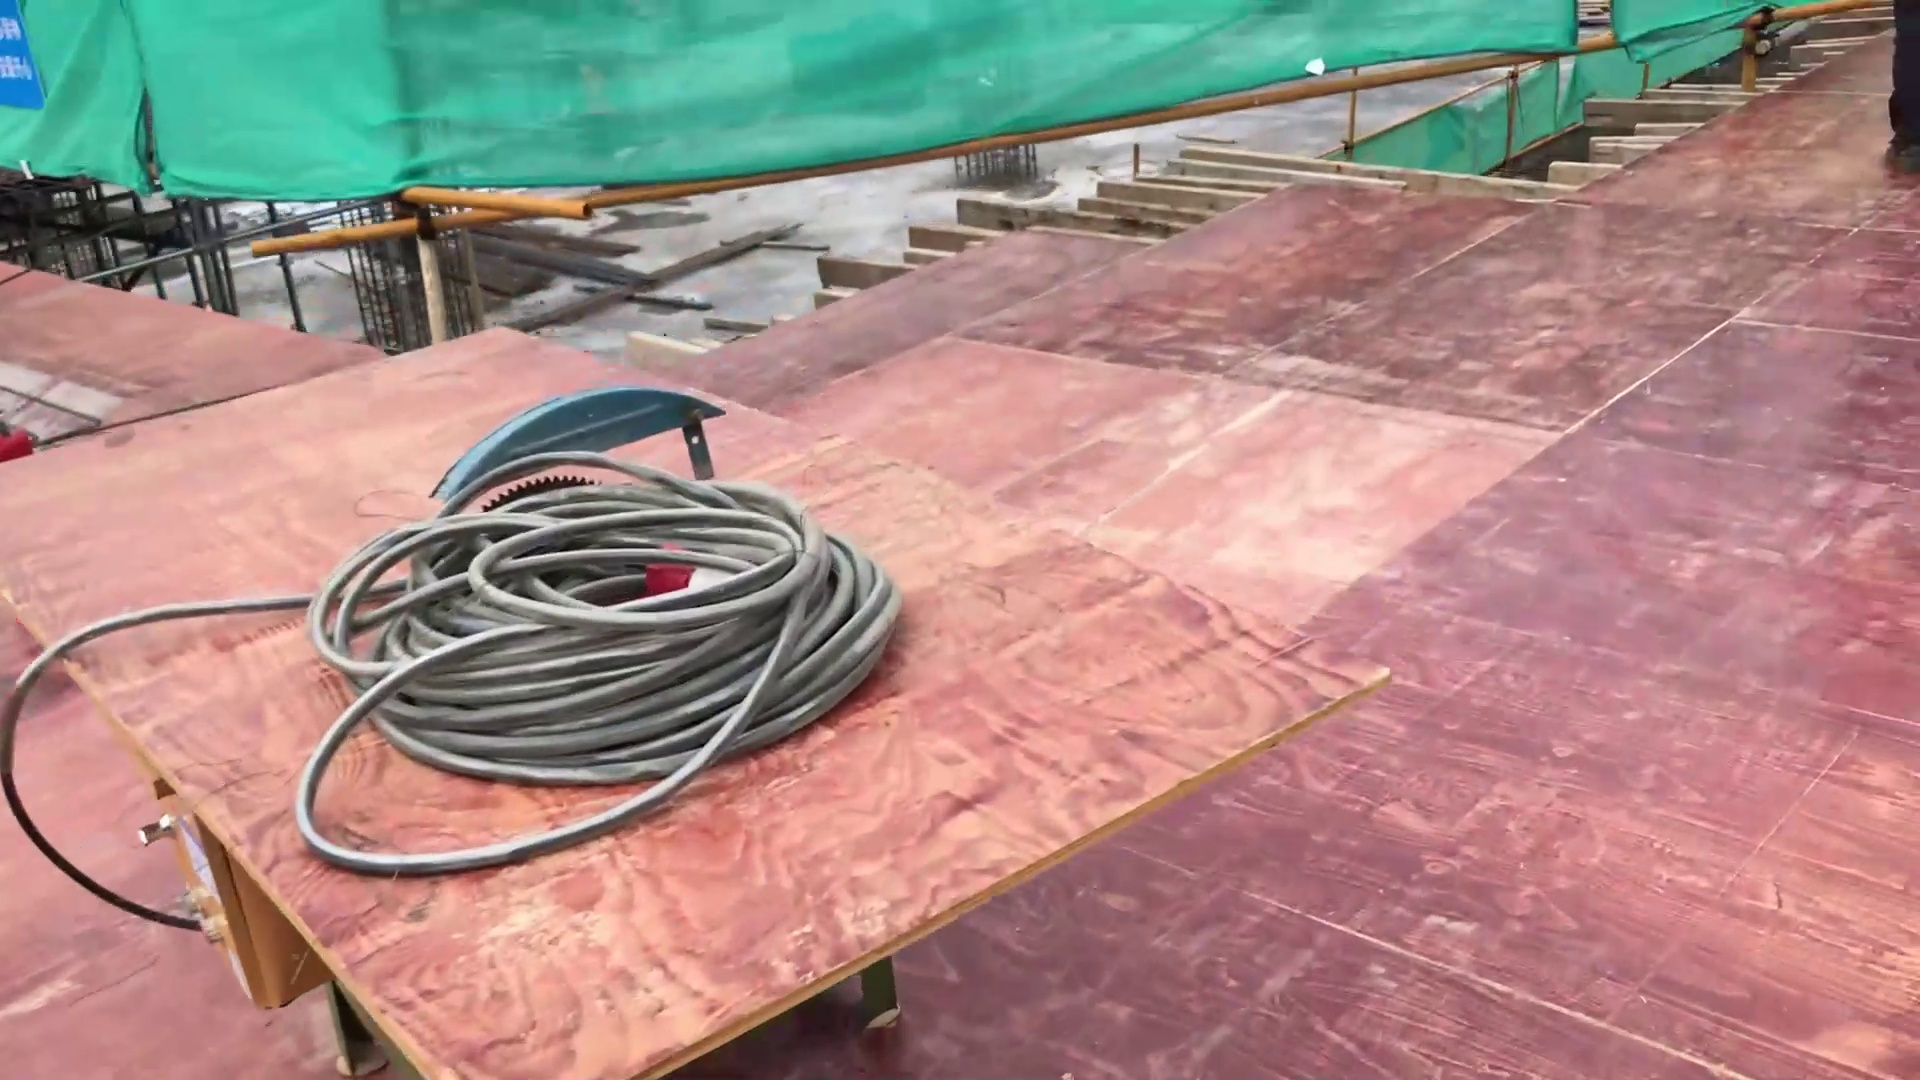cutter: (16, 284, 1422, 1080)
